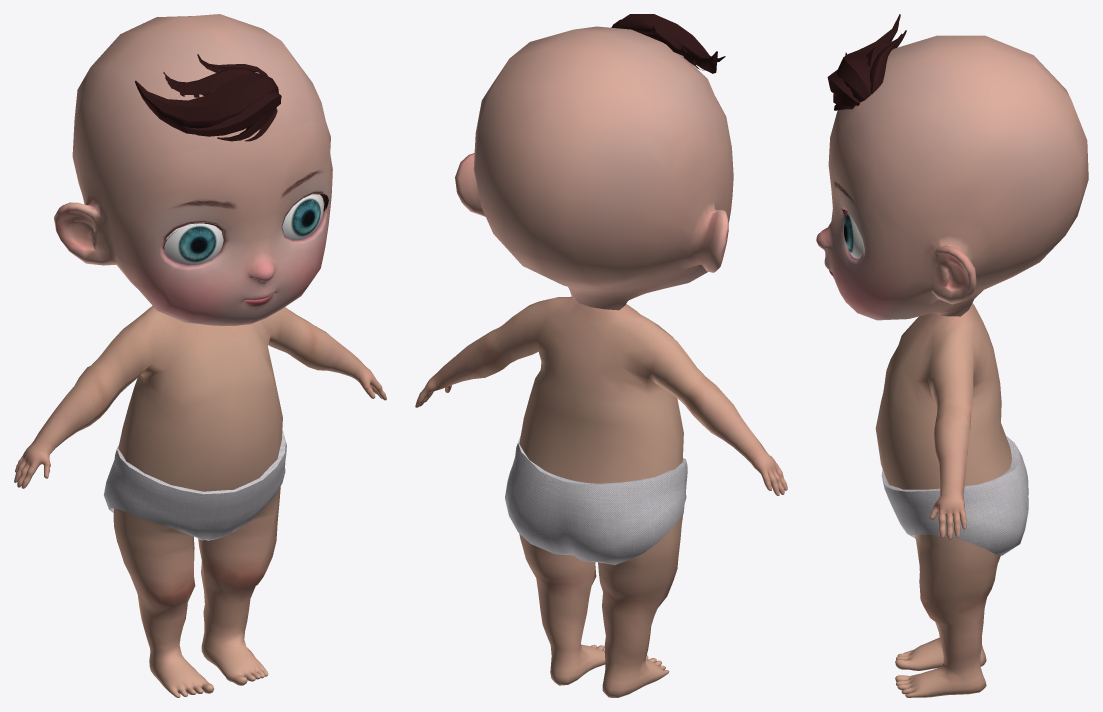
Rendered from Baby_M.fbx.
The picture shows the model from 3 angles, left to right: view 1: azimuth 30°, elevation 25°; view 2: azimuth 150°, elevation 25°; view 3: azimuth 270°, elevation 25°; orthographic projection.
Parts seen in each view (by area): view 1: Face, Baby_Body, Diaper, Baby_Hair; view 2: Face, Baby_Body, Diaper, Baby_Hair; view 3: Face, Baby_Body, Diaper, Baby_Hair.
Part boxes in pixels (x1,y1,x2,y2): Face: (54,14,332,325); Baby_Body: (14,306,386,697); Diaper: (104,429,286,540); Baby_Hair: (135,54,281,141); Face: (455,26,733,310); Baby_Body: (415,296,787,697); Diaper: (505,436,687,565); Baby_Hair: (611,14,725,73); Face: (816,35,1088,320); Baby_Body: (875,303,1011,697); Diaper: (881,436,1028,555); Baby_Hair: (827,14,906,110).
Size of the model in its own units: 1.39 by 2.34 by 0.9158.
